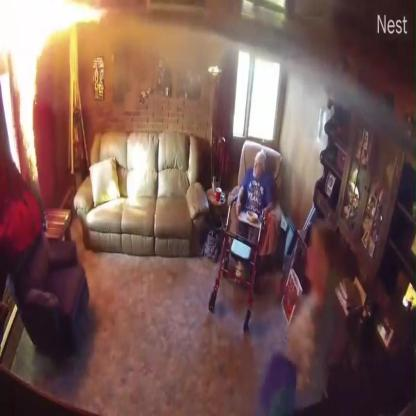fire: (1, 2, 45, 181), (0, 1, 108, 46)
